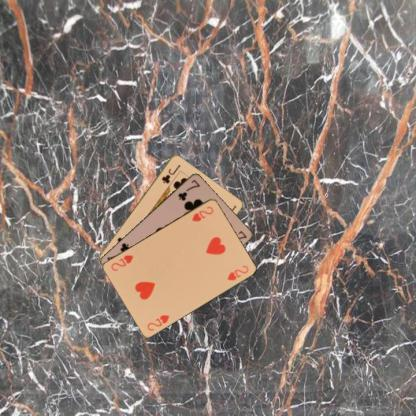2h: (144, 312, 170, 332), (189, 204, 215, 222)
7c: (175, 177, 201, 202)
Jc: (159, 162, 181, 185)
